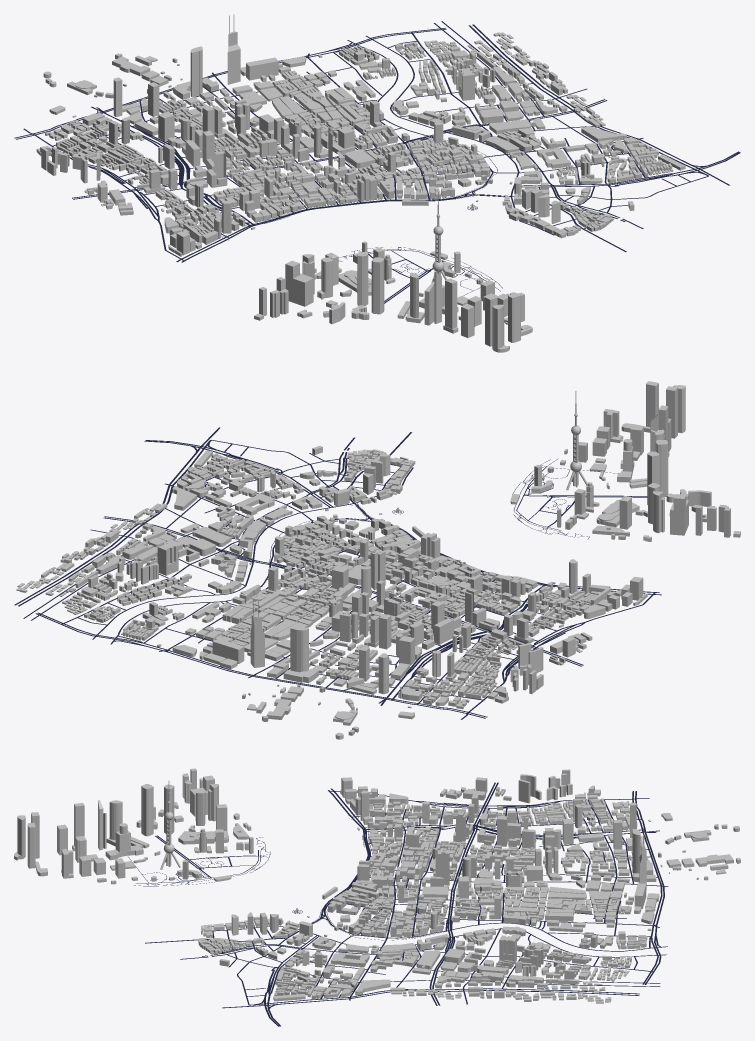
The model's file is shanghai.FBX.
The picture shows the model from 3 angles, top to bottom: view 1: azimuth 30°, elevation 25°; view 2: azimuth 150°, elevation 25°; view 3: azimuth 270°, elevation 25°; orthographic projection. The views are drawn at different scales.
Parts seen in each view (by area): view 1: CITY_UNTRIANGULATED, ROADS; view 2: CITY_UNTRIANGULATED, ROADS; view 3: CITY_UNTRIANGULATED, ROADS.
Part boxes in pixels (bbox=[...]): CITY_UNTRIANGULATED: bbox=[36, 14, 685, 352]; ROADS: bbox=[14, 21, 740, 303]; CITY_UNTRIANGULATED: bbox=[16, 381, 740, 739]; ROADS: bbox=[14, 427, 661, 719]; CITY_UNTRIANGULATED: bbox=[14, 768, 740, 1003]; ROADS: bbox=[128, 782, 668, 1026].
Bounding box in the file's own units: 6121 × 1017 × 7707.
